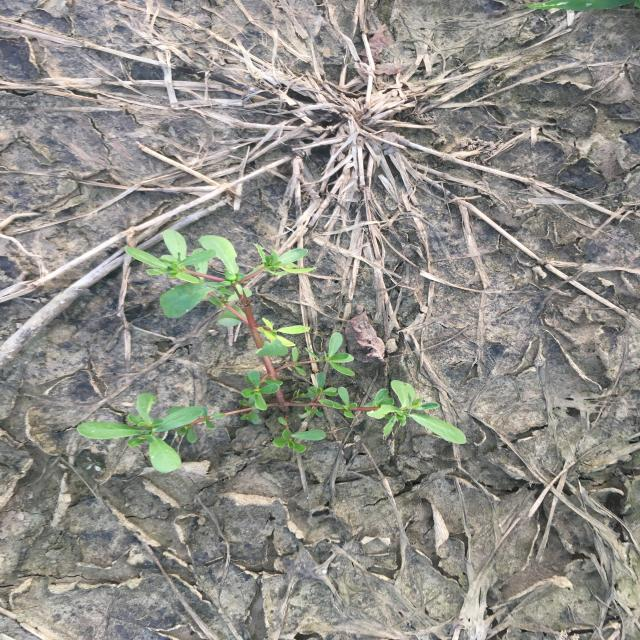Purslane: (73, 228, 470, 475)
